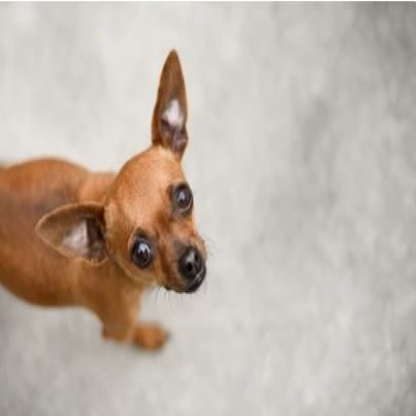chihuahua: (1, 45, 213, 354)
